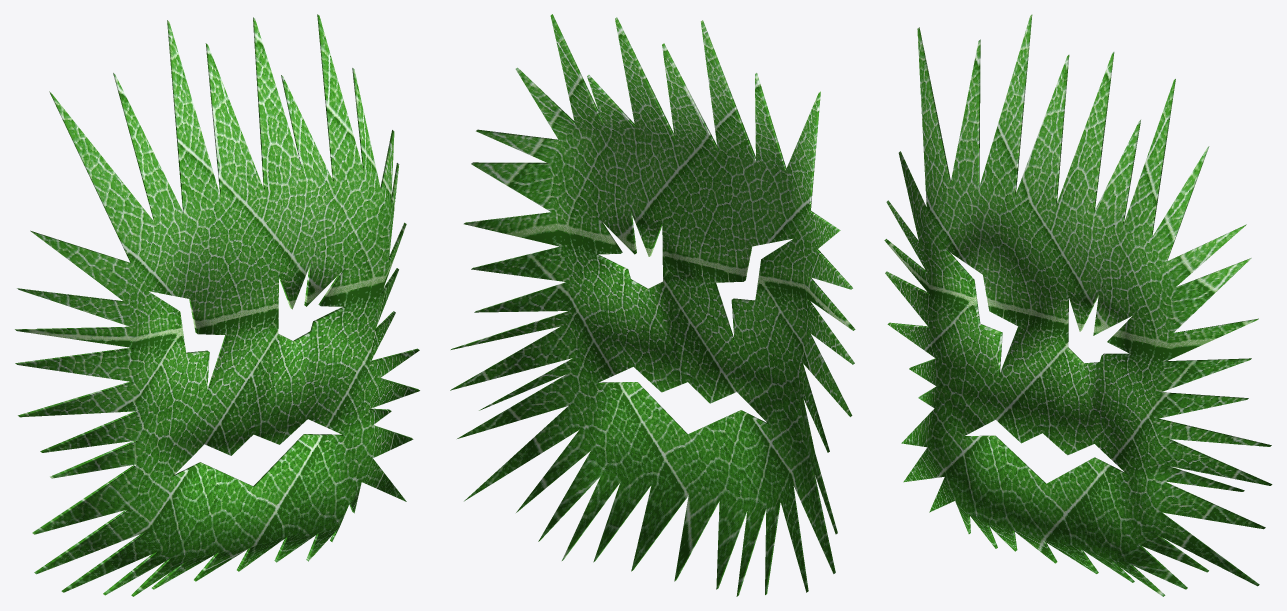
The model's file is spike.glb.
The picture shows the model from 3 angles, left to right: view 1: azimuth 30°, elevation 25°; view 2: azimuth 150°, elevation 25°; view 3: azimuth 330°, elevation 25°; orthographic projection. The views are drawn at different scales.
Parts seen in each view (by area): view 1: Plane; view 2: Plane; view 3: Plane.
Part boxes in pixels (x1,y1,x2,y2): Plane: (15, 14, 419, 596); Plane: (450, 14, 855, 596); Plane: (884, 14, 1272, 596).
Size of the model in its own units: 4.74 by 6.43 by 0.7706.
1 material, 1 textured.
